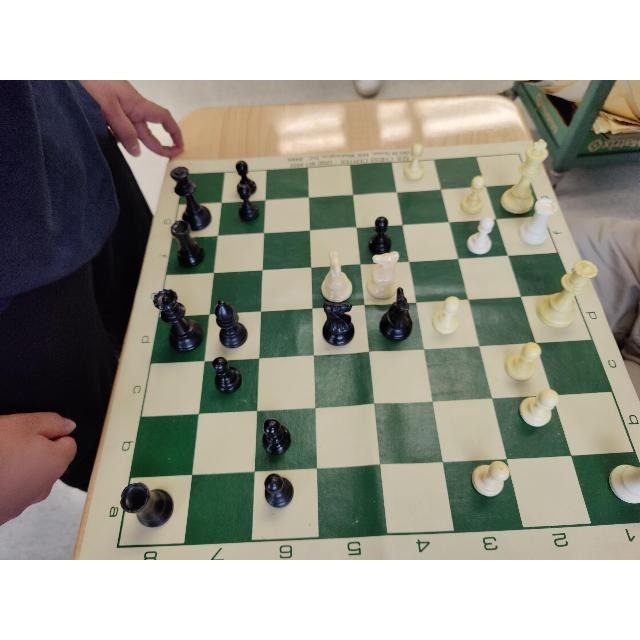black-king: (171, 166, 211, 230)
black-knight: (380, 286, 413, 342), (321, 301, 355, 347)
black-pawn: (262, 419, 292, 457), (212, 356, 242, 393), (264, 473, 292, 507), (368, 216, 392, 254), (234, 159, 257, 194), (239, 186, 259, 220)
black-queen: (153, 289, 205, 353)
black-rook: (120, 482, 173, 529), (171, 219, 205, 267)
white-king: (499, 139, 548, 213)
white-knight: (321, 251, 354, 303), (367, 250, 398, 297)
white-pawn: (519, 388, 559, 428), (506, 342, 541, 381), (474, 460, 508, 497), (433, 295, 461, 334), (466, 216, 493, 254), (461, 176, 484, 213), (405, 143, 425, 181)
white-queen: (538, 258, 598, 327)
white-rook: (519, 199, 557, 244), (610, 464, 640, 506)
